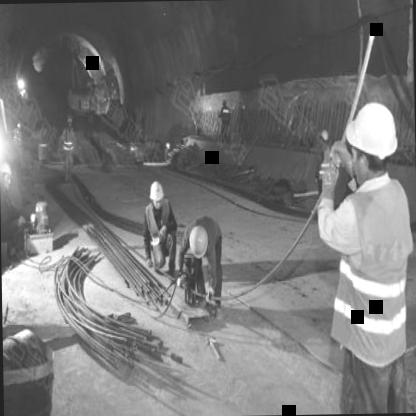helmet: (343, 99, 401, 182), (182, 219, 214, 263), (0, 155, 17, 197), (146, 178, 166, 209), (318, 128, 329, 146)
